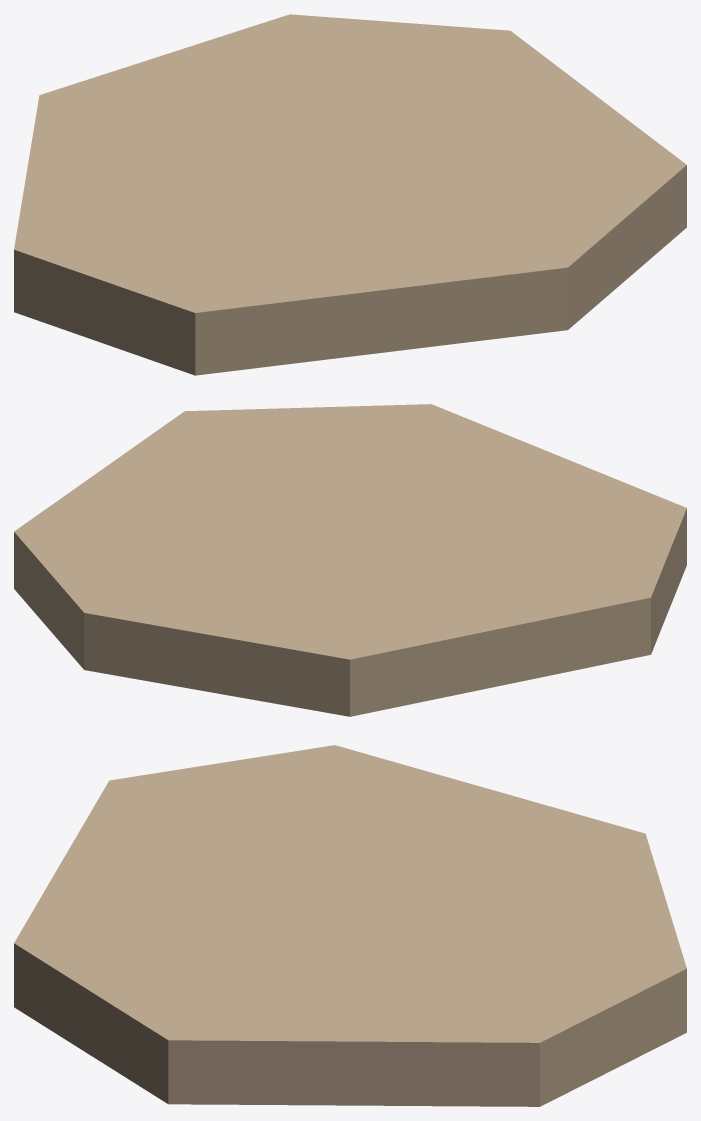
The model's file is SM_Env_Ice_01.fbx.
3 views of the same model, one above another, from view 1: azimuth 30°, elevation 25°; view 2: azimuth 150°, elevation 25°; view 3: azimuth 270°, elevation 25° (orthographic). The views are drawn at different scales.
Visible parts, largest first — view 1: SM_Env_Ice_01; view 2: SM_Env_Ice_01; view 3: SM_Env_Ice_01.
Part boxes in pixels (x1,y1,x2,y2): SM_Env_Ice_01: [14, 14, 686, 375]; SM_Env_Ice_01: [14, 404, 686, 716]; SM_Env_Ice_01: [14, 745, 686, 1106].
Bounding box in the file's own units: 0.0177 × 0.00178 × 0.0169.
Materials: 1 (1 with a texture image).
